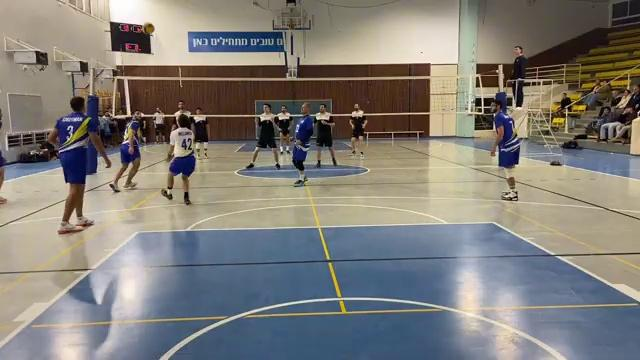ball: (145, 22, 155, 35)
